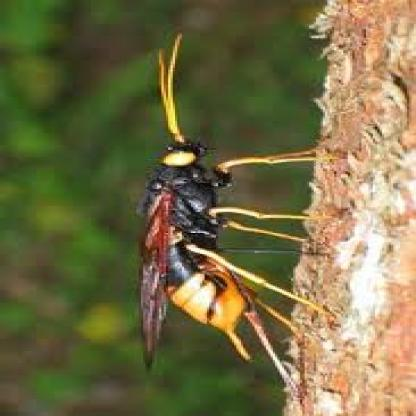sawfly: (120, 33, 352, 393)
